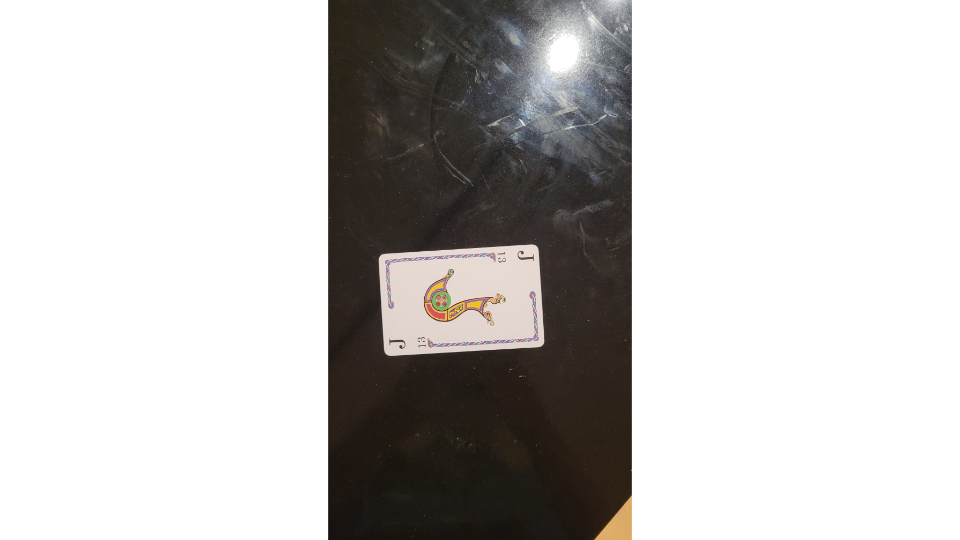J: (374, 241, 549, 359)
